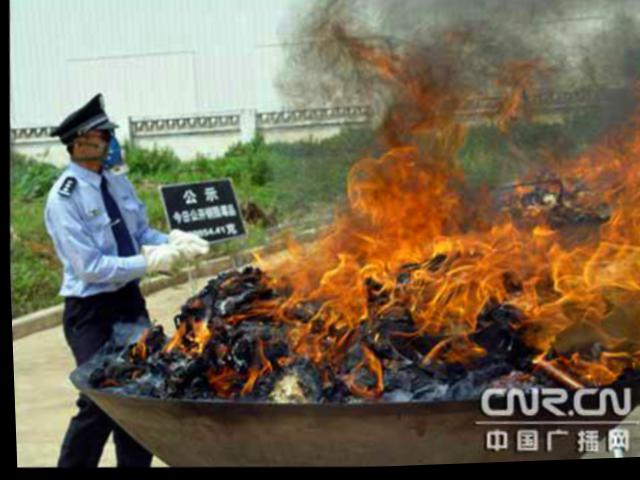fire: (480, 222, 639, 323), (346, 153, 464, 245), (380, 241, 489, 333), (282, 242, 369, 328), (519, 315, 639, 361), (594, 119, 639, 231), (419, 338, 483, 369), (568, 356, 621, 388), (359, 350, 386, 395), (287, 324, 316, 362), (200, 369, 229, 394), (188, 319, 207, 352), (162, 324, 181, 351)
